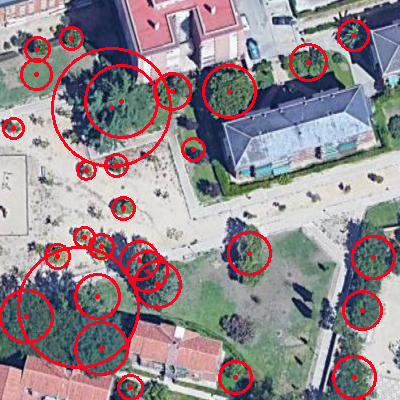tree: (2, 286, 66, 356), (124, 239, 186, 310), (70, 307, 133, 374), (73, 78, 135, 145), (331, 334, 376, 400), (353, 218, 393, 290), (228, 222, 267, 289), (205, 69, 254, 117), (343, 291, 386, 334), (218, 311, 255, 343), (33, 242, 71, 269), (88, 236, 118, 264), (185, 145, 215, 171), (304, 46, 330, 74), (62, 26, 88, 49), (195, 176, 221, 199), (112, 198, 139, 220), (178, 114, 202, 132), (31, 39, 52, 58)
